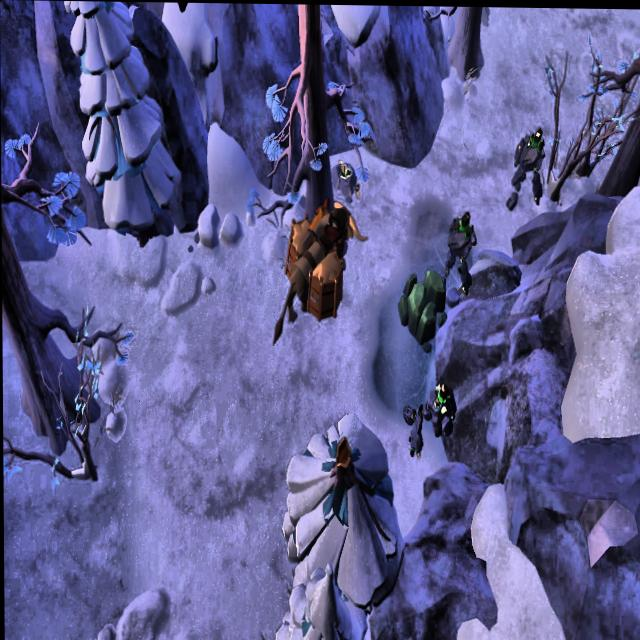rock_t3: (395, 267, 449, 339)
